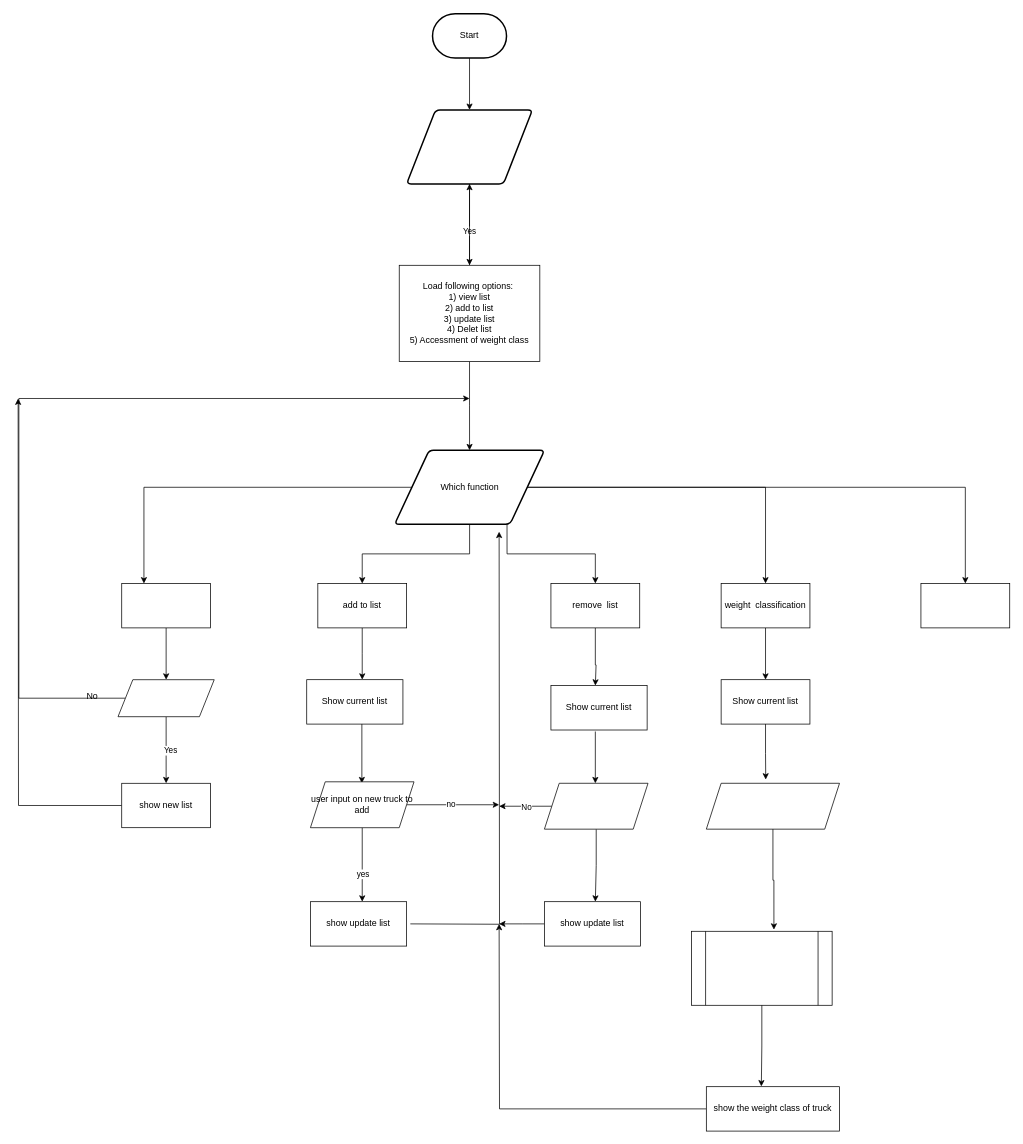
This 1023x1144 diagram has some shape labels left out. The shapes that lost their labels are listed below. From the top down, each one's centre as x and y in pixels, then its label:
At [469,146]: "Would you like to use the truck register app".
At [166,605]: "view list".
At [965,605]: "exit".
At [165,698]: "user input".
At [596,806]: "user input to remove truck".
At [773,806]: "user input on which truck to assess".
At [761,968]: "truck classification application".
